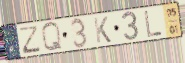3: (120, 10, 141, 44), (70, 16, 89, 50)
K: (92, 15, 113, 44)
L: (143, 9, 164, 38)
Q: (40, 21, 64, 53)
Z: (20, 24, 42, 56)
